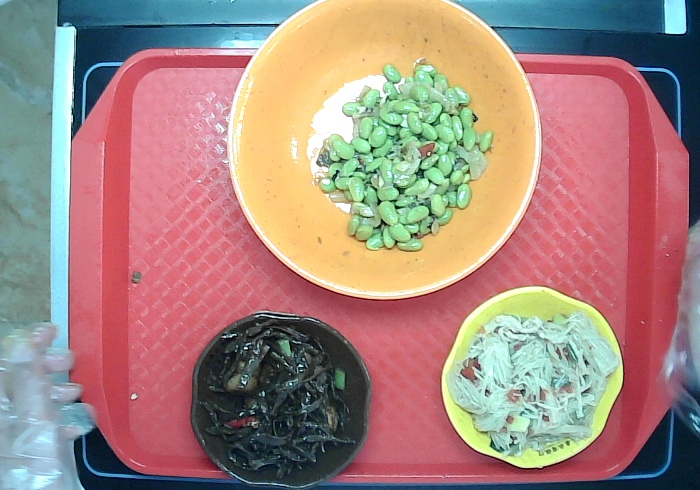YKMZ-Huang_Se_Ao_Bian_Wan: (438, 284, 626, 470)
YKMZ-Ju_Se_Tang_Wan: (223, 1, 544, 302)
YKMZ-Ka_Fei_Ao_Bian_Wan: (189, 307, 375, 490)
